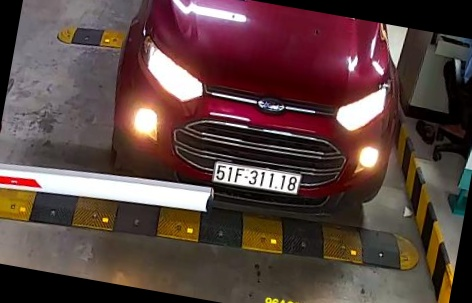plate: (213, 155, 308, 203)
